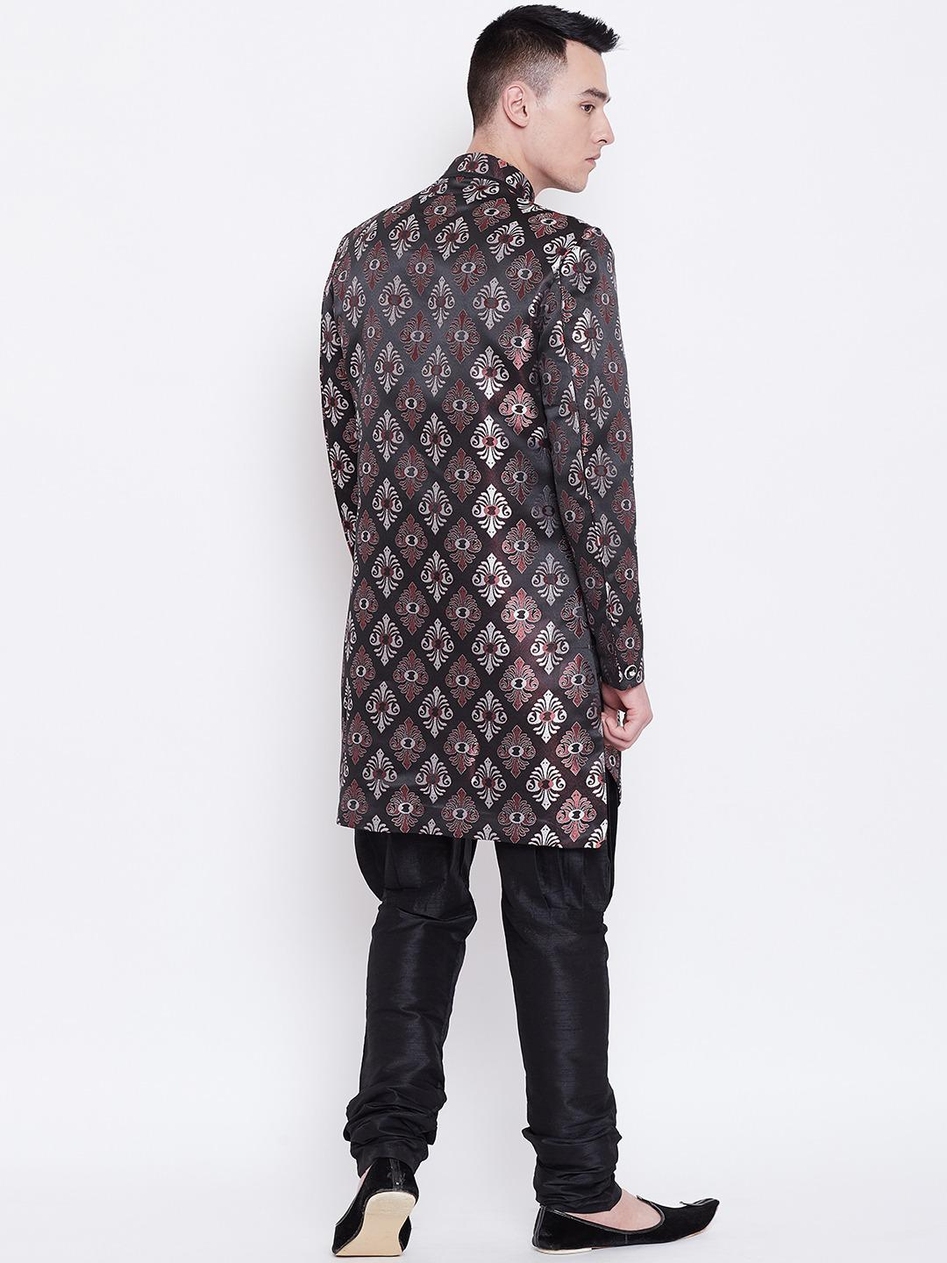Desgin sherwani: (314, 154, 650, 848)
